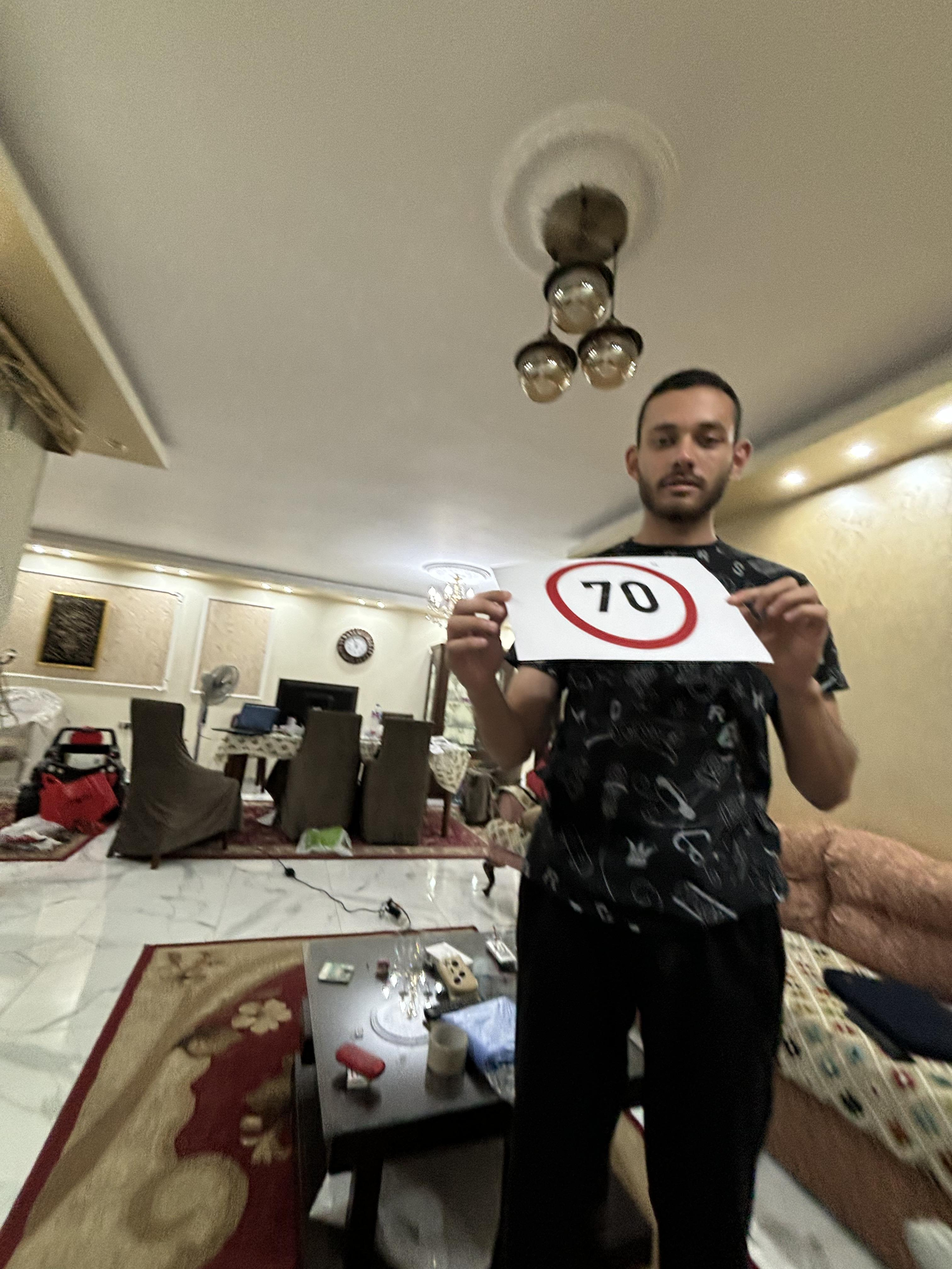70-Speed: (543, 548, 712, 656)
